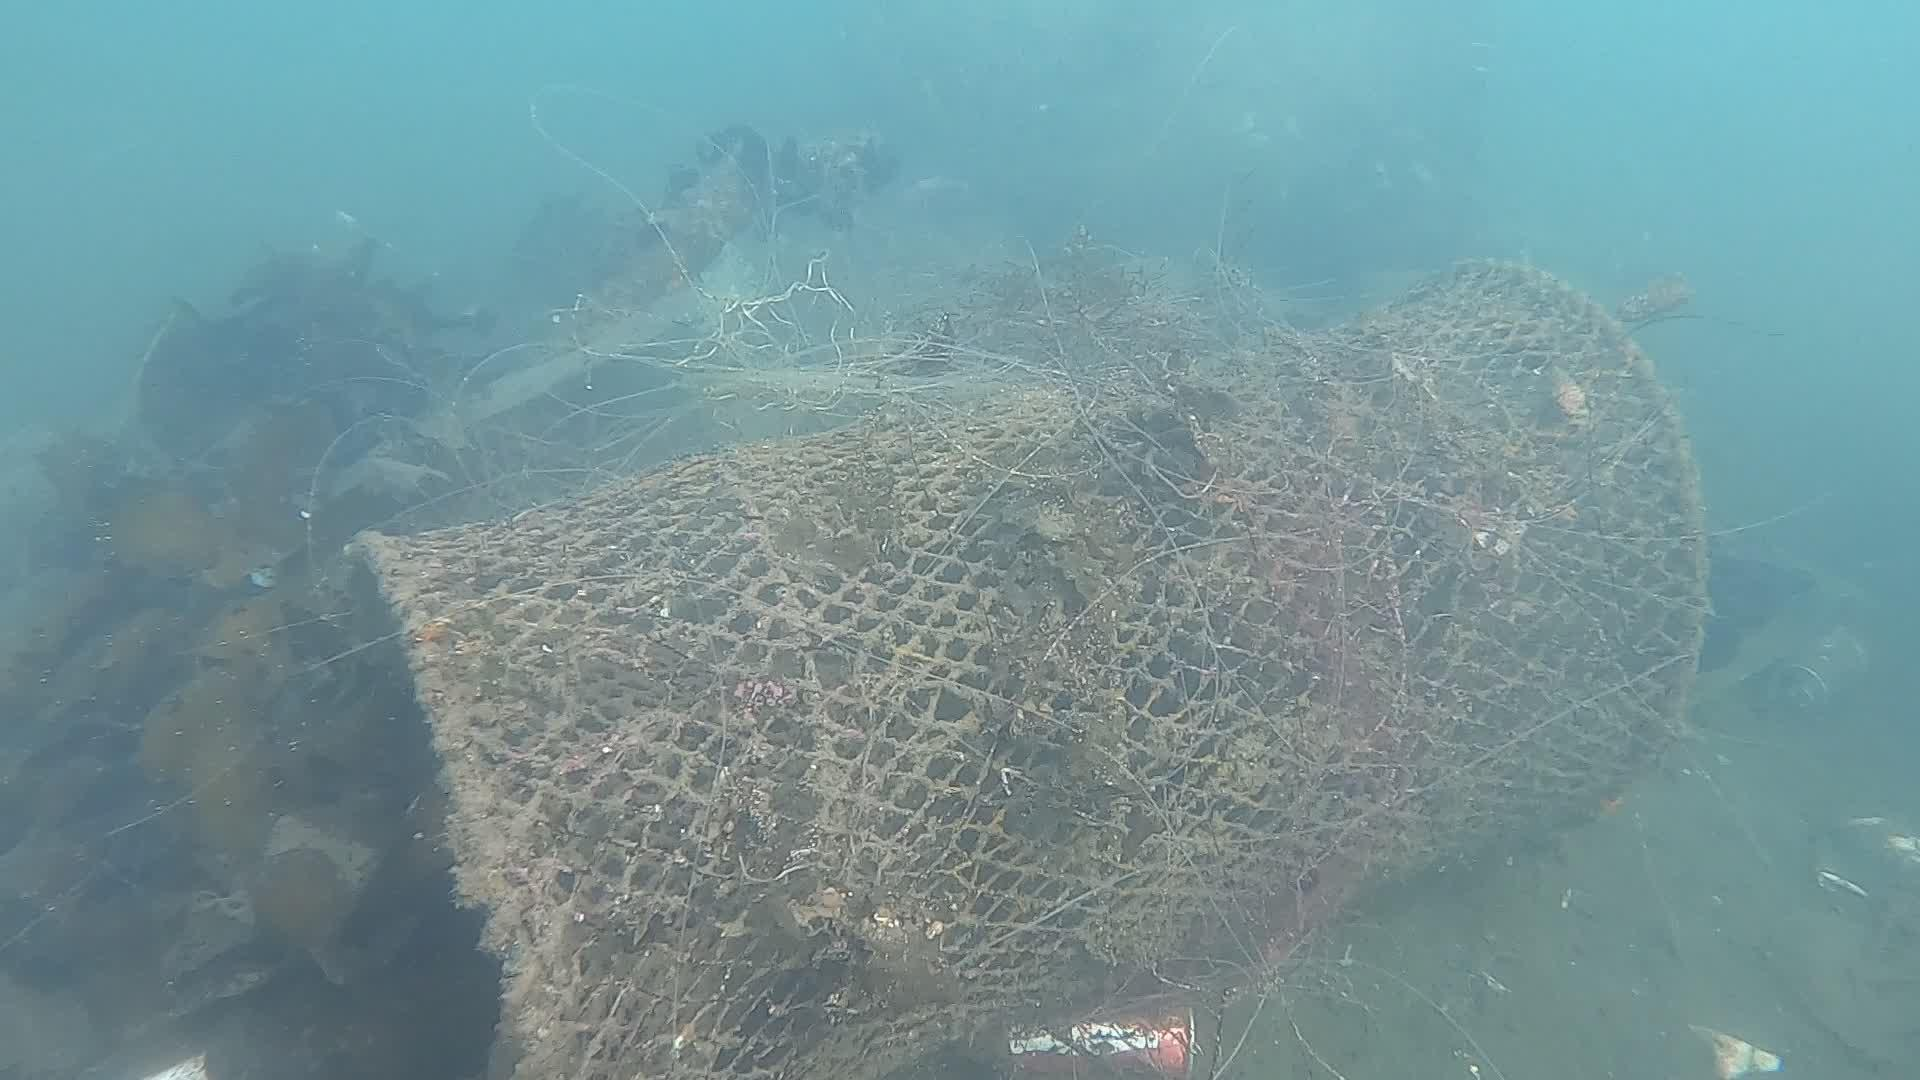spring fish trap: (343, 253, 1716, 1080)
